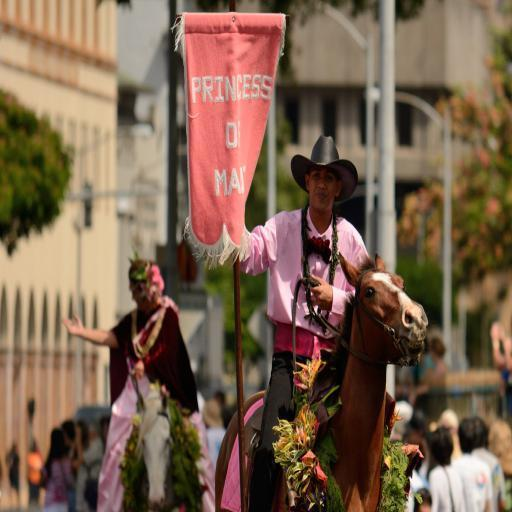horse: (214, 253, 430, 512), (119, 380, 207, 512)
